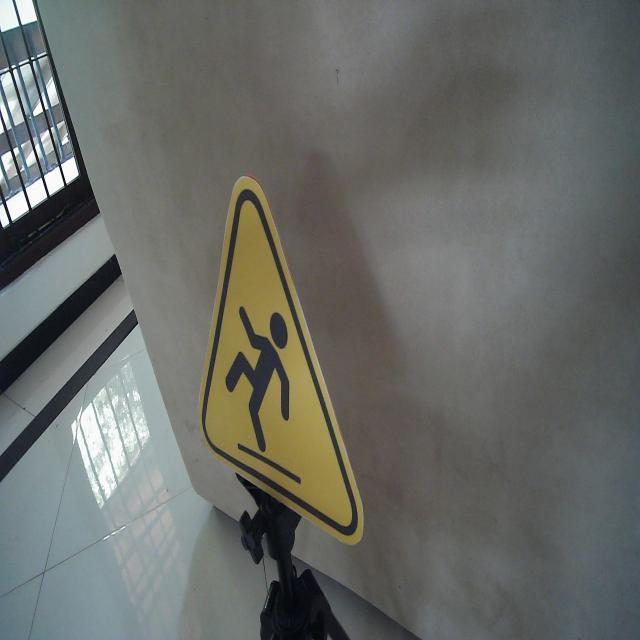slippery_sign: (194, 172, 367, 548)
